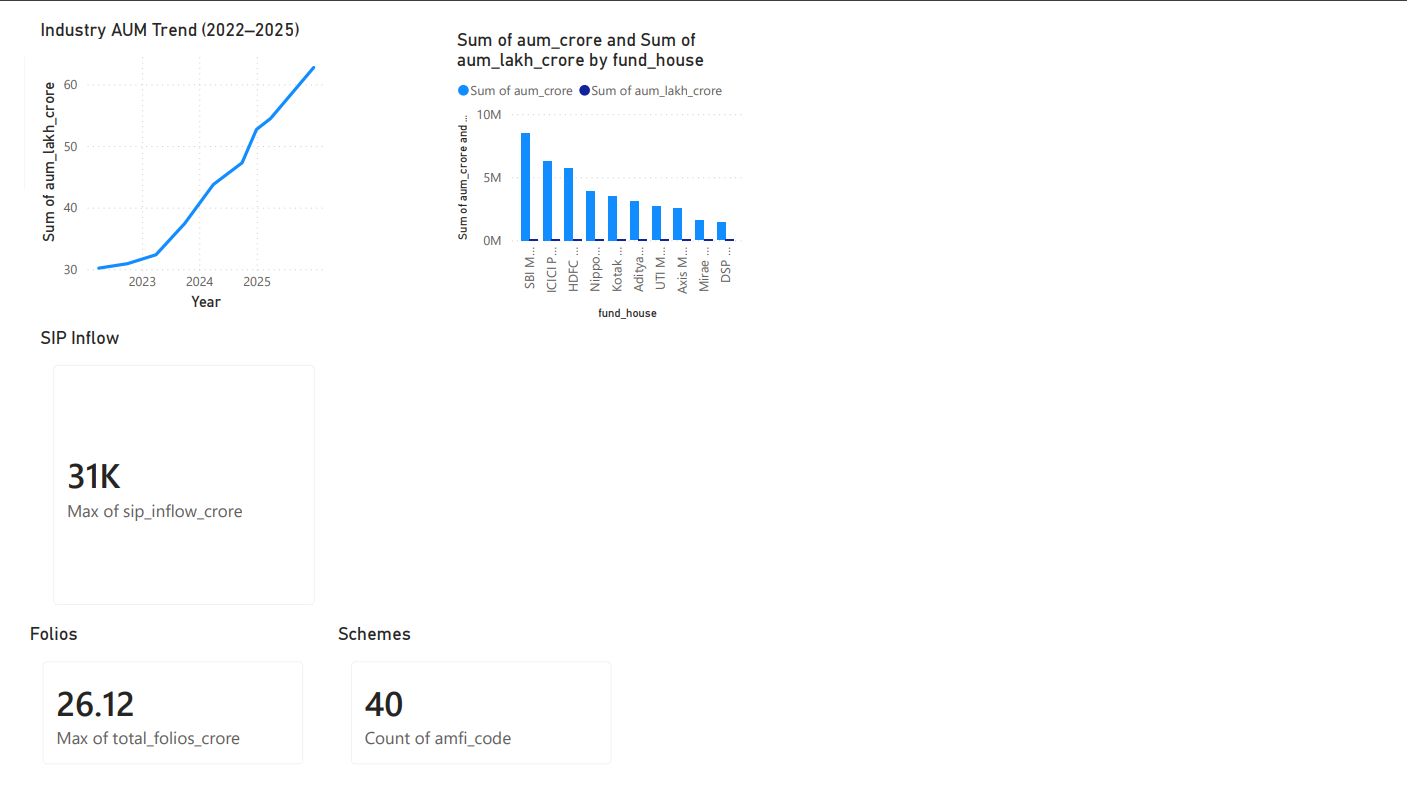

Layout of this report page (visuals, bound fields, positions):
{"tool":"powerbi","page":{"name":"Industry Trend","canvas":[1280,720],"ordinal":0},"visuals":[{"type":"lineChart","title":"Industry AUM Trend (2022–2025)","fields":{"Y":["Sum(03_aum_by_fund_house.aum_lakh_crore)"],"Category":["03_aum_by_fund_house.date.Variation.Date Hierarchy.Year","03_aum_by_fund_house.date.Variation.Date Hierarchy.Quarter","03_aum_by_fund_house.date.Variation.Date Hierarchy.Month","03_aum_by_fund_house.date.Variation.Date Hierarchy.Day"]},"box":[10,0,280,280],"z":0},{"type":"cardVisual","title":"SIP Inflow","fields":{"Data":["Max(04_monthly_sip_inflows.sip_inflow_crore)"]},"box":[10,290,280,280],"z":1000},{"type":"cardVisual","title":" Folios","fields":{"Data":["Max(06_industry_folio_count.total_folios_crore)"]},"box":[0,569.5,279.9,150.9],"z":2000},{"type":"cardVisual","title":" Schemes","fields":{"Data":["Count(clean_investor_transactions.amfi_code)"]},"box":[289.5,569.5,279.9,150.9],"z":3000},{"type":"clusteredColumnChart","fields":{"Y":["Sum(03_aum_by_fund_house.aum_crore)","Sum(03_aum_by_fund_house.aum_lakh_crore)"],"Category":["03_aum_by_fund_house.fund_house"]},"box":[402,10,279.4,279.4],"z":4000}]}

Visuals, with their boxes in screenshot pixels (x1, y1, x2, y2), scaled from the page's 1280x720 canvas onto the 1407x797 screenshot:
"Industry AUM Trend (2022–2025)" lineChart: 11/0/319/310
"SIP Inflow" cardVisual: 11/321/319/631
" Folios" cardVisual: 0/630/308/796
" Schemes" cardVisual: 318/630/626/796
clusteredColumnChart - Sum(03_aum_by_fund_house.aum_crore) x Sum(03_aum_by_fund_house.aum_lakh_crore): 442/11/749/320
